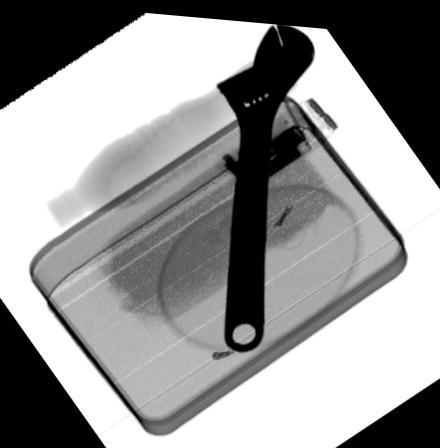Wrench: (212, 19, 315, 349)
